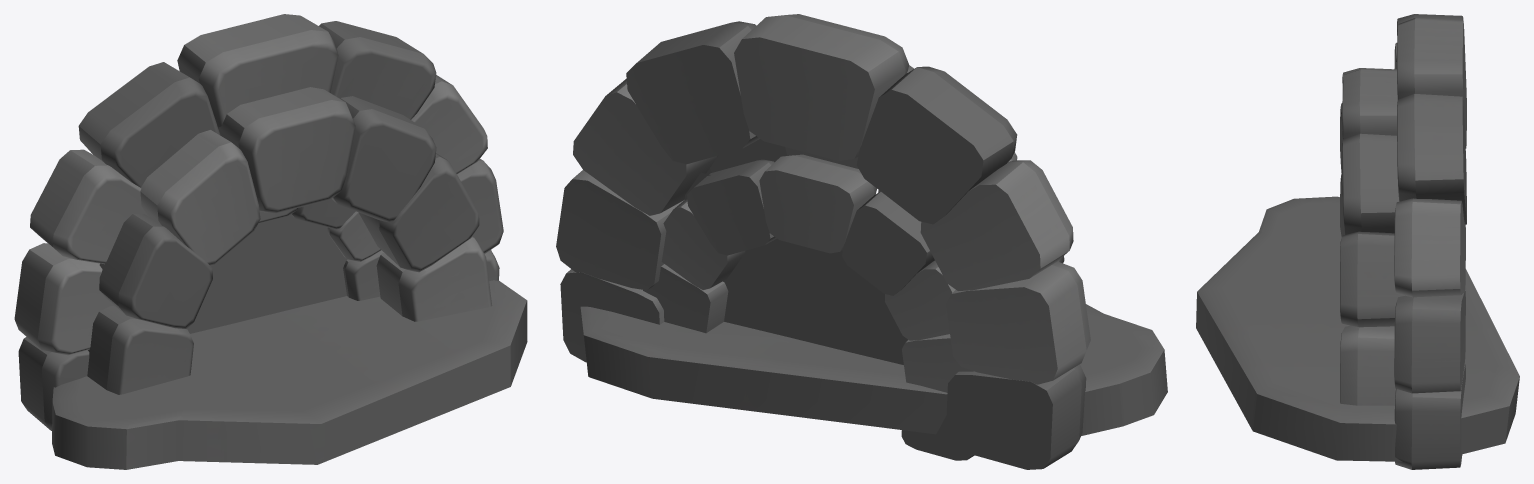
Rendered from SRFirePlace.fbx.
3 renders of one model, left to right at view 1: azimuth 30°, elevation 25°; view 2: azimuth 150°, elevation 25°; view 3: azimuth 270°, elevation 25°, orthographic. The views are drawn at different scales.
Visible parts, largest first — view 1: FirePlace; view 2: FirePlace; view 3: FirePlace.
Boxes of the visible parts, left/top/right/bottom form: FirePlace: left=14, top=14, right=527, bottom=469; FirePlace: left=556, top=14, right=1167, bottom=469; FirePlace: left=1196, top=14, right=1519, bottom=469.
Bounding box in the file's own units: 1.92 × 1.32 × 1.15.
